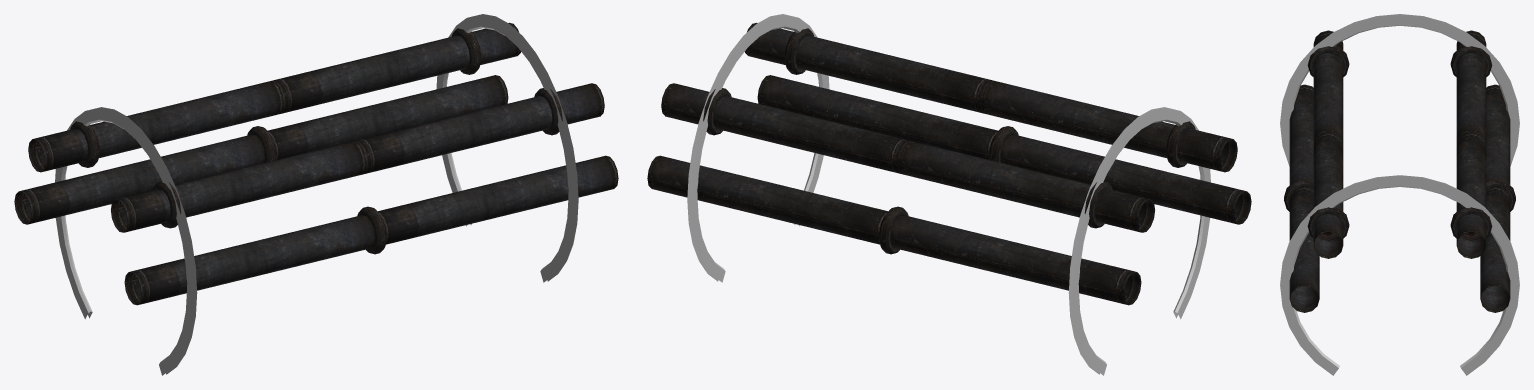
The model's file is engineroom_largepipe_straight_pipes.dae.
3 renders of one model, left to right at view 1: azimuth 30°, elevation 25°; view 2: azimuth 150°, elevation 25°; view 3: azimuth 270°, elevation 25°, orthographic. The views are drawn at different scales.
Parts seen in each view (by area): view 1: pipe_straight_pipes1, pipe_straight_ribs2; view 2: pipe_straight_pipes1, pipe_straight_ribs2; view 3: pipe_straight_pipes1, pipe_straight_ribs2.
Part boxes in pixels (bbox=[...]): pipe_straight_pipes1: bbox=[14, 22, 618, 305]; pipe_straight_ribs2: bbox=[55, 14, 578, 375]; pipe_straight_pipes1: bbox=[647, 22, 1251, 305]; pipe_straight_ribs2: bbox=[687, 14, 1210, 375]; pipe_straight_pipes1: bbox=[1284, 30, 1515, 312]; pipe_straight_ribs2: bbox=[1280, 14, 1519, 375].
Bounding box in the file's own units: 600 × 276 × 302.
